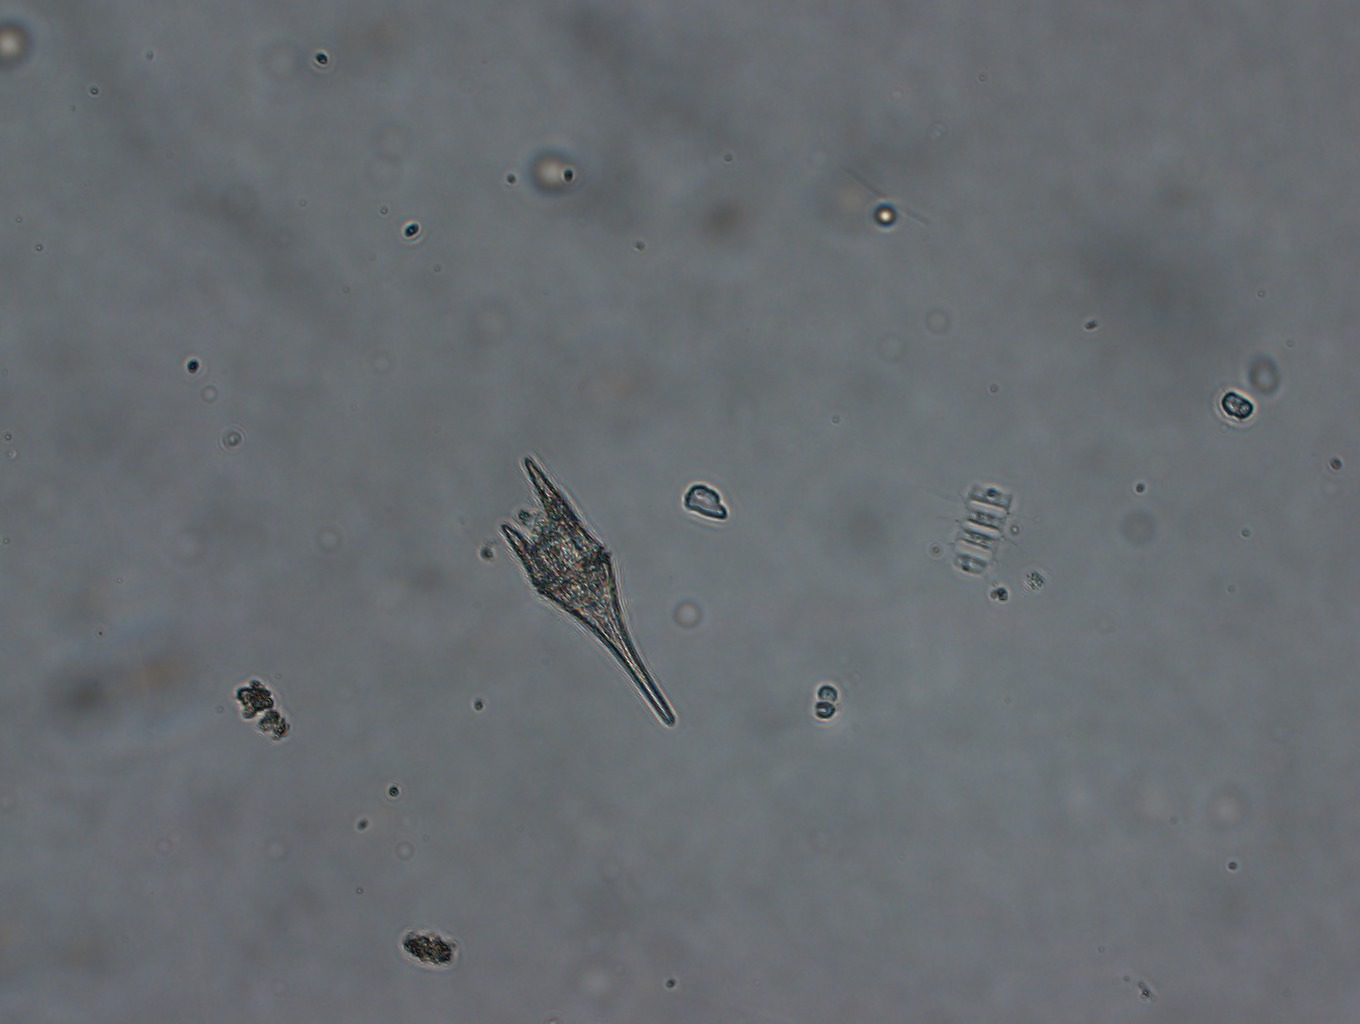ceratium furca: (500, 455, 676, 727)
chaetoceros: (947, 482, 1023, 591)
